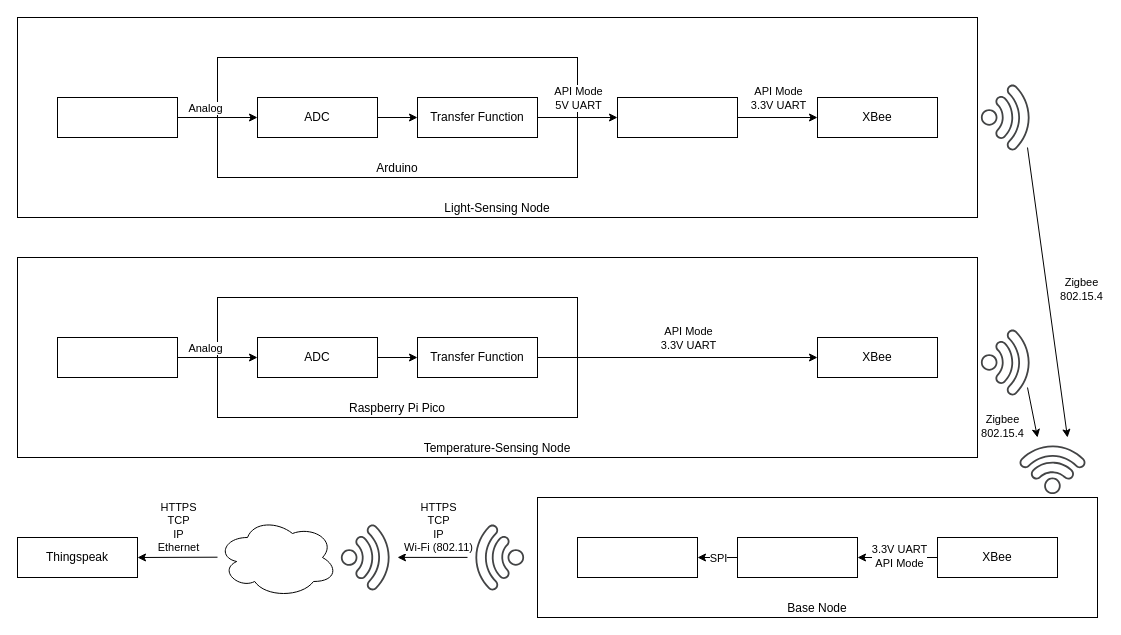
This 1121x635 diagram has some shape labels left out. Here are the shapes that lost their labels. From the top down, the centre of each, then its label:
(117,117): Photoresistor
(677,117): CD4504 Level Shifter
(117,357): Thermistor
(277,557): The Internet
(637,557): Adafruit AirLift FeatherWing
(797,557): Adafruit Feather RP2040
